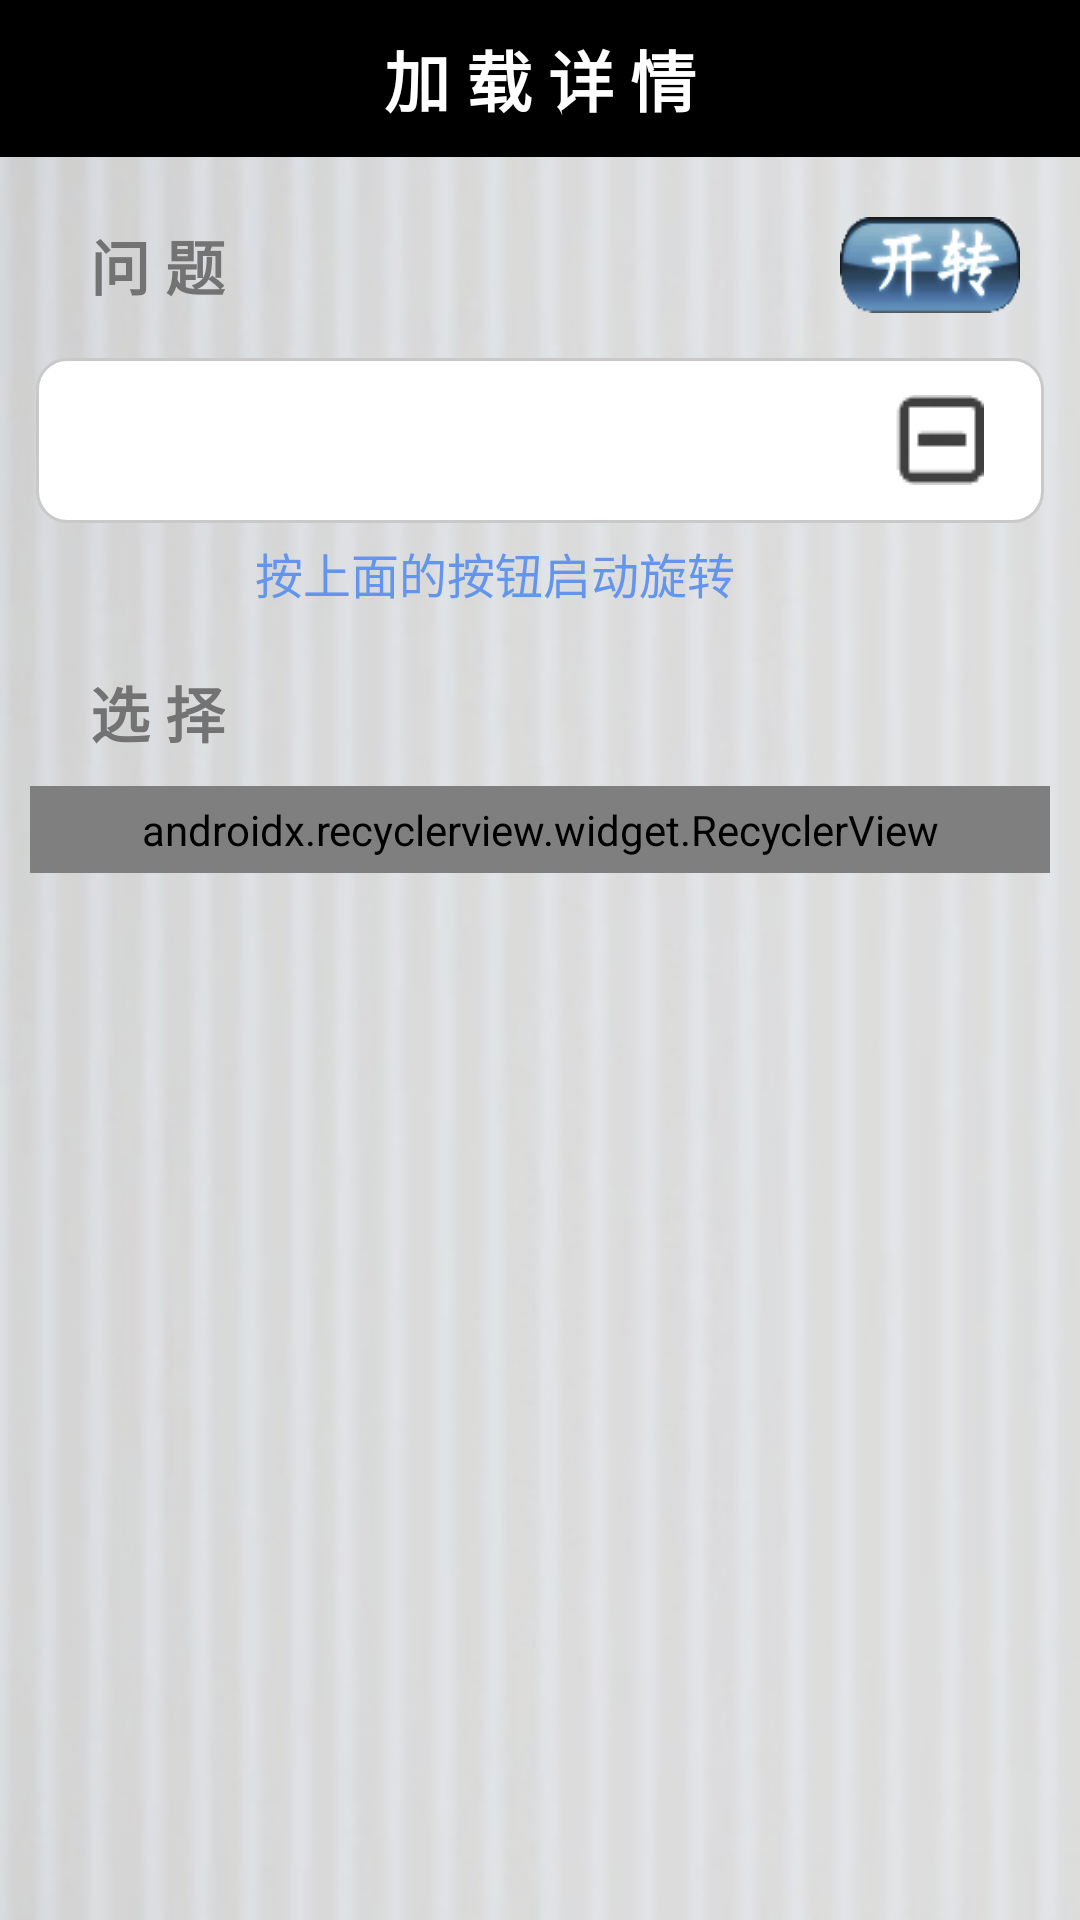

Icons on this 1080px×1920px Android screen, each with the point to tap as point (x, y):
delete: point (940, 440)
